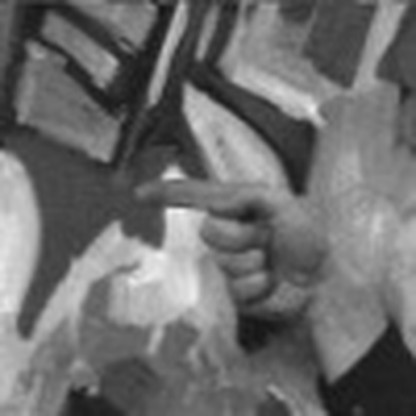g: (126, 173, 332, 321)
